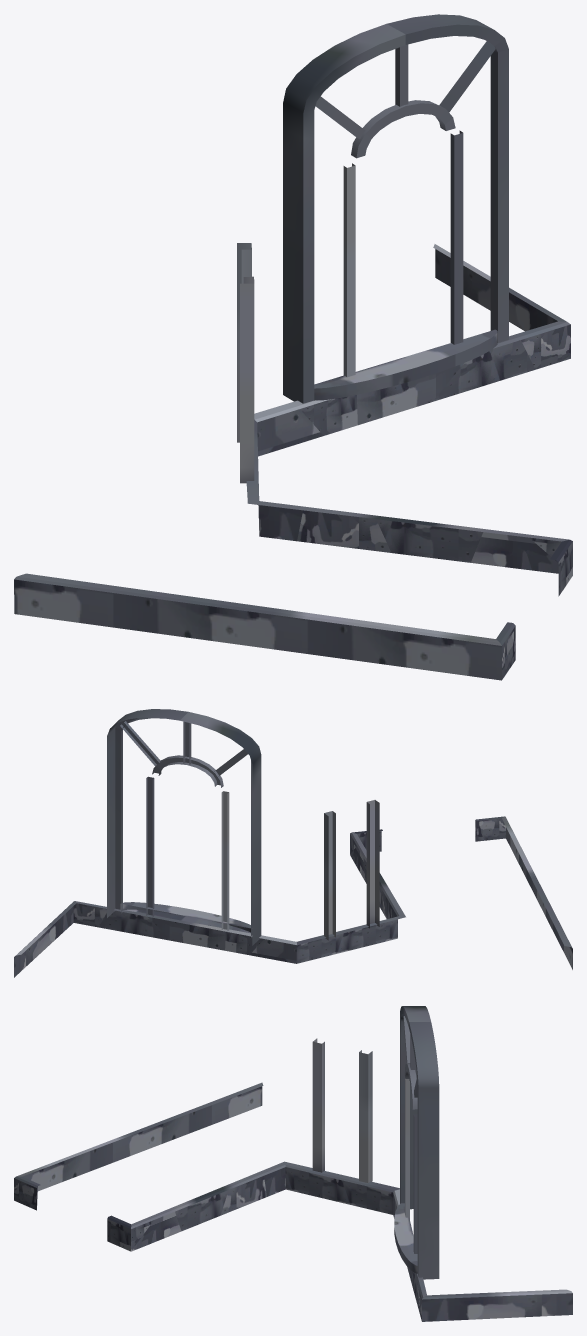
Rendered from ClothingBuildingRock.fbx.
3 views of the same model, one above another, from view 1: azimuth 30°, elevation 25°; view 2: azimuth 150°, elevation 25°; view 3: azimuth 270°, elevation 25° (orthographic). The views are drawn at different scales.
Visible parts, largest first — view 1: ClothingBuildingRock; view 2: ClothingBuildingRock; view 3: ClothingBuildingRock.
Part boxes in pixels (left/top/right/bottom): ClothingBuildingRock: left=14, top=14, right=572, bottom=680; ClothingBuildingRock: left=14, top=709, right=572, bottom=977; ClothingBuildingRock: left=14, top=1006, right=572, bottom=1321.
Size of the model in its own units: 771 by 406 by 841.
